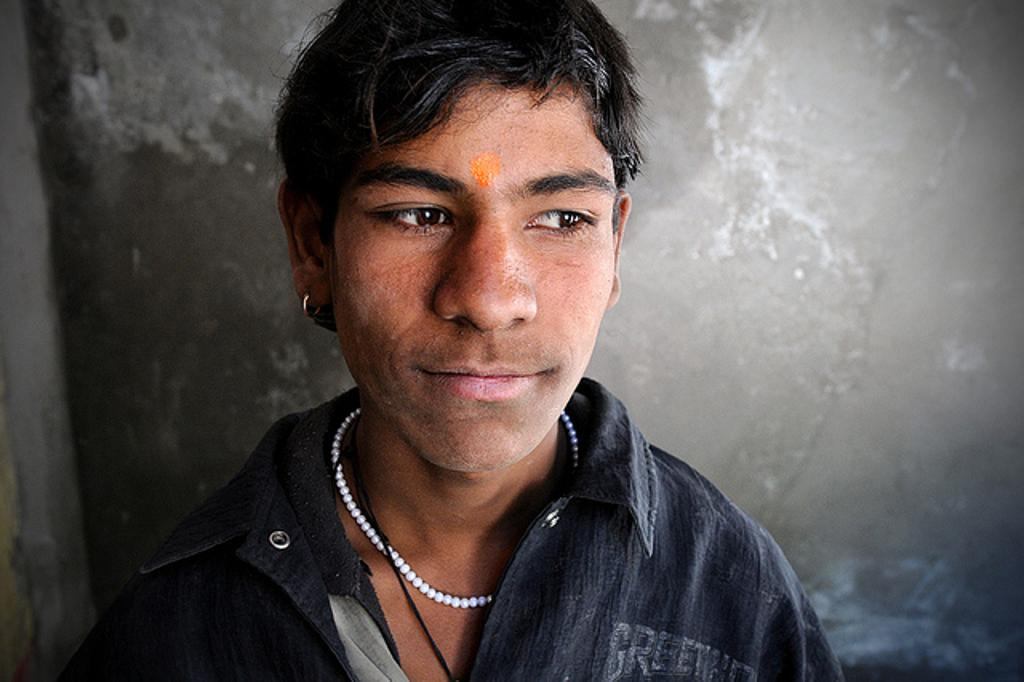face: (346, 92, 600, 458)
